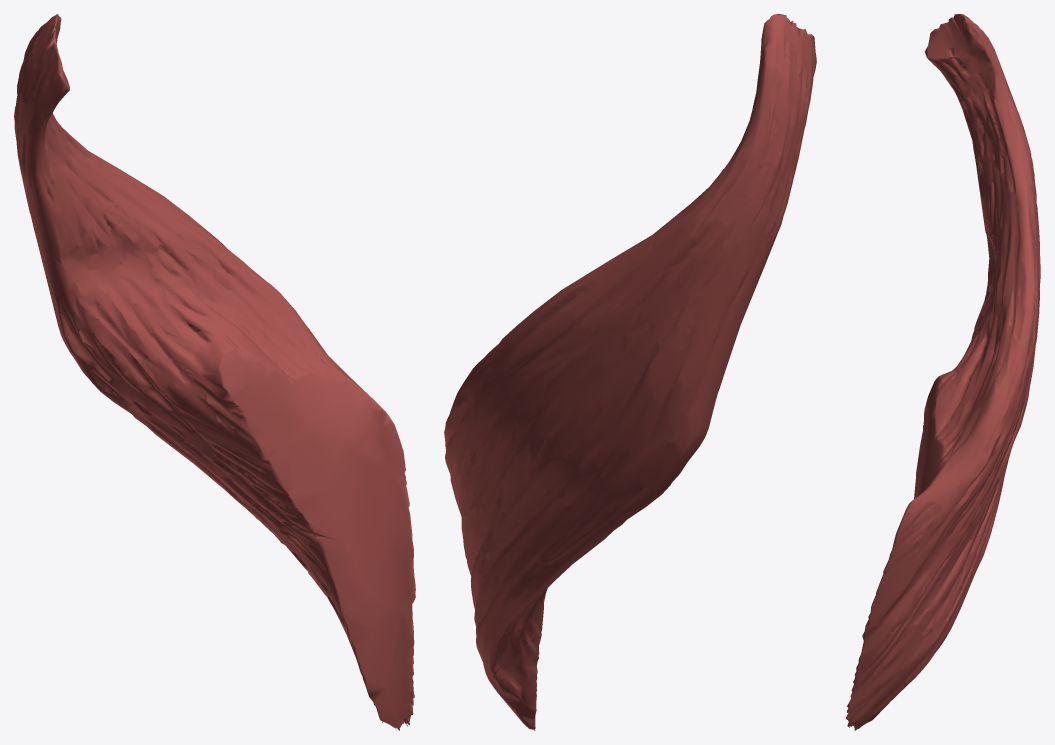
File: FMA22591.glb
The picture shows the model from 3 angles, left to right: view 1: azimuth 30°, elevation 25°; view 2: azimuth 150°, elevation 25°; view 3: azimuth 270°, elevation 25°; orthographic projection. The views are drawn at different scales.
Visible parts, largest first — view 1: FMA22591; view 2: FMA22591; view 3: FMA22591.
Part boxes in pixels (bbox=[...]): FMA22591: bbox=[14, 14, 415, 730]; FMA22591: bbox=[444, 14, 816, 730]; FMA22591: bbox=[845, 14, 1040, 730].
Bounding box in the file's own units: 0.0574 × 0.1212 × 0.0354.
